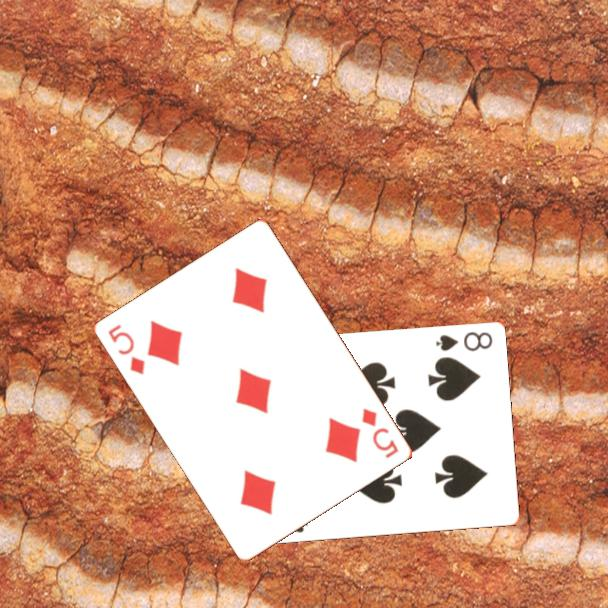d05: (105, 321, 148, 378), (359, 405, 402, 461)
s08: (432, 329, 495, 354)
